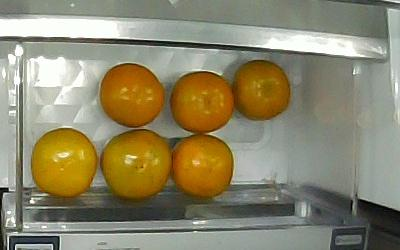persimmon: (100, 129, 173, 201), (31, 128, 98, 198), (100, 63, 165, 127), (170, 134, 234, 199), (171, 71, 233, 134), (232, 60, 292, 121)
